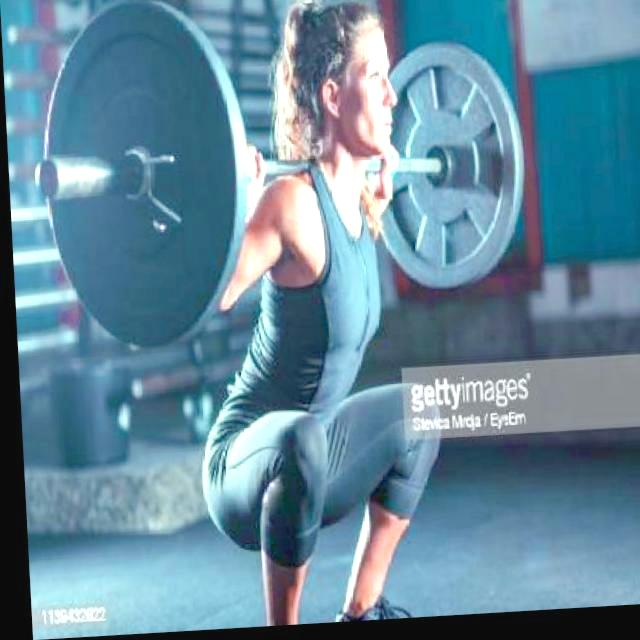barbell: (22, 1, 250, 364)
